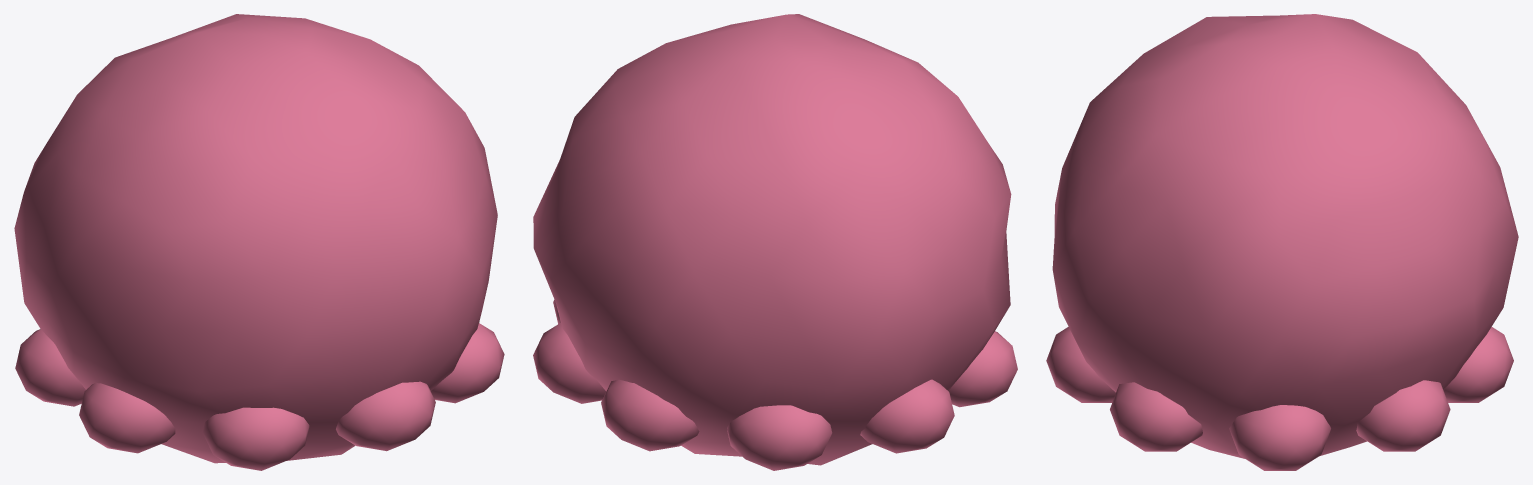
The model's file is Cherry_scoop.fbx.
3 views of the same model, side by side, from view 1: azimuth 30°, elevation 25°; view 2: azimuth 150°, elevation 25°; view 3: azimuth 270°, elevation 25° (orthographic).
Visible parts, largest first — view 1: Toon_Cherry_scoop Cherry scoop.001, Toon_Cherry_scoop Ruffled scoop edge.015, Toon_Cherry_scoop Ruffled scoop edge.016, Toon_Cherry_scoop Ruffled scoop edge.014, Toon_Cherry_scoop Ruffled scoop edge.013, Toon_Cherry_scoop Ruffled scoop edge.017; view 2: Toon_Cherry_scoop Cherry scoop.001, Toon_Cherry_scoop Ruffled scoop edge.012, Toon_Cherry_scoop Ruffled scoop edge.011, Toon_Cherry_scoop Ruffled scoop edge.013, Toon_Cherry_scoop Ruffled scoop edge.010, Toon_Cherry_scoop Ruffled scoop edge.014; view 3: Toon_Cherry_scoop Cherry scoop.001, Toon_Cherry_scoop Ruffled scoop edge.009, Toon_Cherry_scoop Ruffled scoop edge.010, Toon_Cherry_scoop Ruffled scoop edge.017, Toon_Cherry_scoop Ruffled scoop edge.011, Toon_Cherry_scoop Ruffled scoop edge.016.
Part boxes in pixels (bbox=[...]): Toon_Cherry_scoop Cherry scoop.001: bbox=[14, 14, 497, 463]; Toon_Cherry_scoop Ruffled scoop edge.015: bbox=[202, 407, 309, 470]; Toon_Cherry_scoop Ruffled scoop edge.016: bbox=[336, 381, 435, 451]; Toon_Cherry_scoop Ruffled scoop edge.014: bbox=[79, 382, 175, 453]; Toon_Cherry_scoop Ruffled scoop edge.013: bbox=[15, 329, 85, 406]; Toon_Cherry_scoop Ruffled scoop edge.017: bbox=[431, 323, 504, 403]; Toon_Cherry_scoop Cherry scoop.001: bbox=[533, 14, 1011, 465]; Toon_Cherry_scoop Ruffled scoop edge.012: bbox=[727, 405, 832, 470]; Toon_Cherry_scoop Ruffled scoop edge.011: bbox=[601, 379, 699, 451]; Toon_Cherry_scoop Ruffled scoop edge.013: bbox=[860, 379, 954, 453]; Toon_Cherry_scoop Ruffled scoop edge.010: bbox=[533, 323, 606, 403]; Toon_Cherry_scoop Ruffled scoop edge.014: bbox=[948, 331, 1017, 407]; Toon_Cherry_scoop Cherry scoop.001: bbox=[1052, 14, 1518, 458]; Toon_Cherry_scoop Ruffled scoop edge.009: bbox=[1229, 405, 1330, 470]; Toon_Cherry_scoop Ruffled scoop edge.010: bbox=[1356, 380, 1450, 451]; Toon_Cherry_scoop Ruffled scoop edge.017: bbox=[1110, 382, 1202, 451]; Toon_Cherry_scoop Ruffled scoop edge.011: bbox=[1443, 327, 1513, 402]; Toon_Cherry_scoop Ruffled scoop edge.016: bbox=[1046, 327, 1115, 402].
Size of the model in its own units: 10.56 by 9.6 by 10.18.
